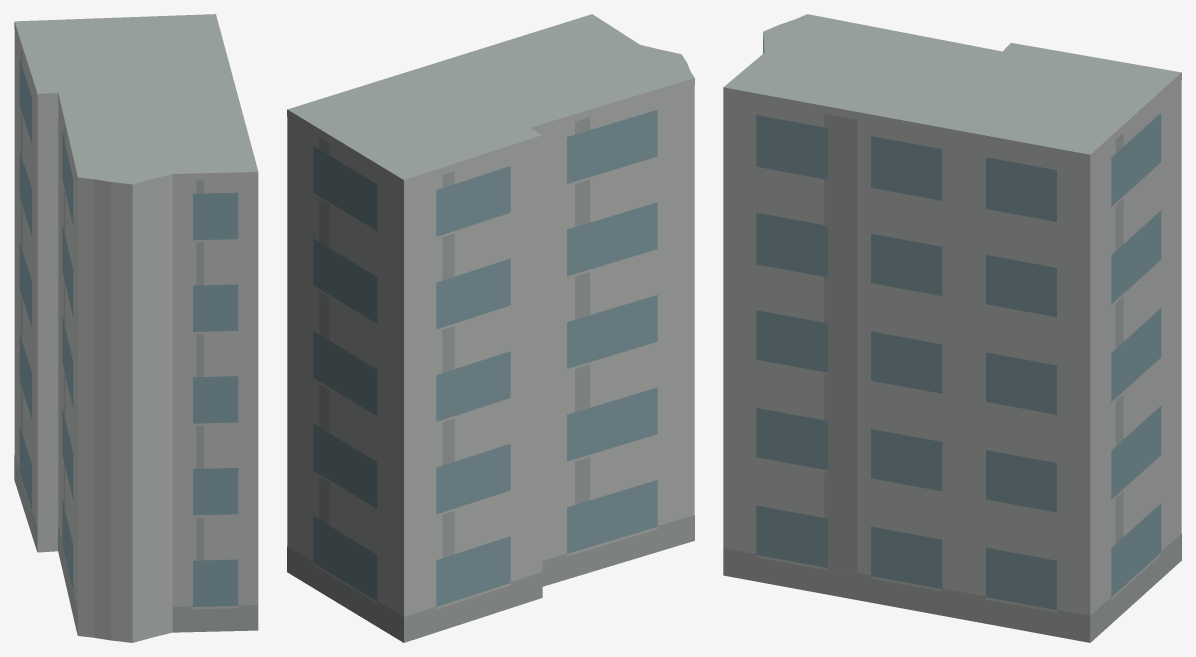
The model's file is survey-upis-33040777.glb.
3 renders of one model, left to right at view 1: azimuth 30°, elevation 25°; view 2: azimuth 150°, elevation 25°; view 3: azimuth 270°, elevation 25°, orthographic. The views are drawn at different scales.
Visible parts, largest first — view 1: survey-upis-33040777.tmp; view 2: survey-upis-33040777.tmp; view 3: survey-upis-33040777.tmp.
Part boxes in pixels (x1,y1,x2,y2): survey-upis-33040777.tmp: [14, 14, 258, 642]; survey-upis-33040777.tmp: [287, 14, 694, 642]; survey-upis-33040777.tmp: [723, 14, 1181, 642].
Size of the model in its own units: 9.44 by 15.25 by 12.99.
